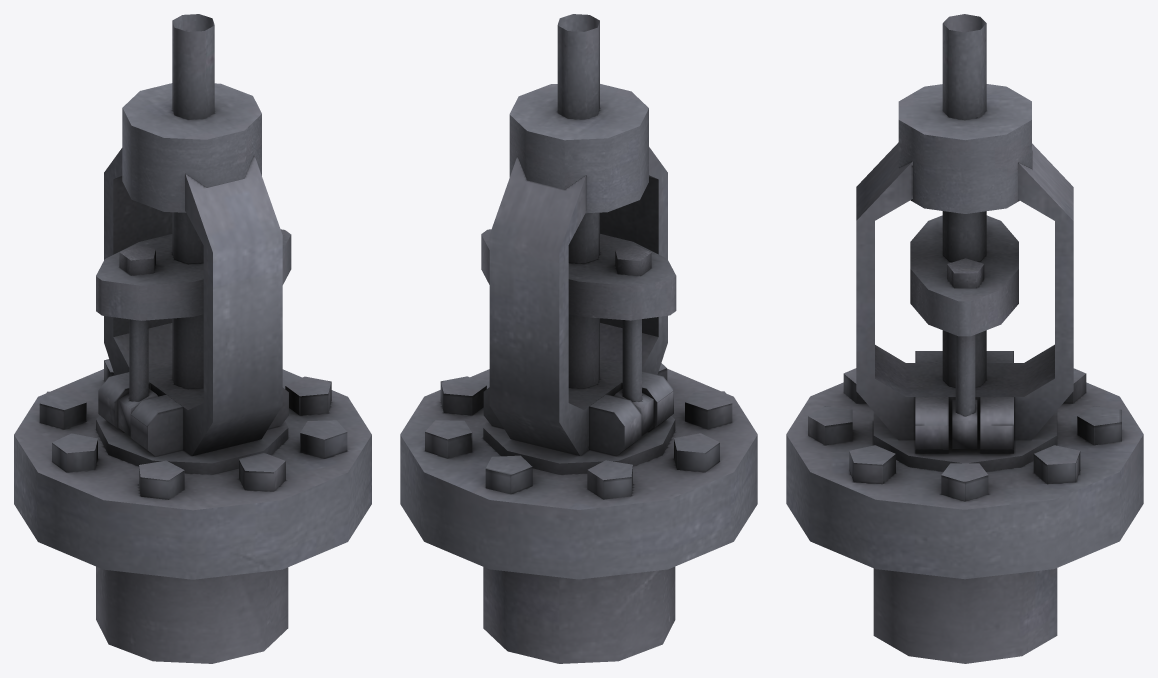
File: valve_03.FBX
The picture shows the model from 3 angles, left to right: view 1: azimuth 30°, elevation 25°; view 2: azimuth 150°, elevation 25°; view 3: azimuth 270°, elevation 25°; orthographic projection.
Visible parts, largest first — view 1: Object004; view 2: Object004; view 3: Object004.
Boxes of the visible parts, left/top/right/bottom form: Object004: left=14, top=14, right=371, bottom=663; Object004: left=400, top=14, right=757, bottom=663; Object004: left=786, top=14, right=1143, bottom=663.
Size of the model in its own units: 23.48 by 43.5 by 23.48.
